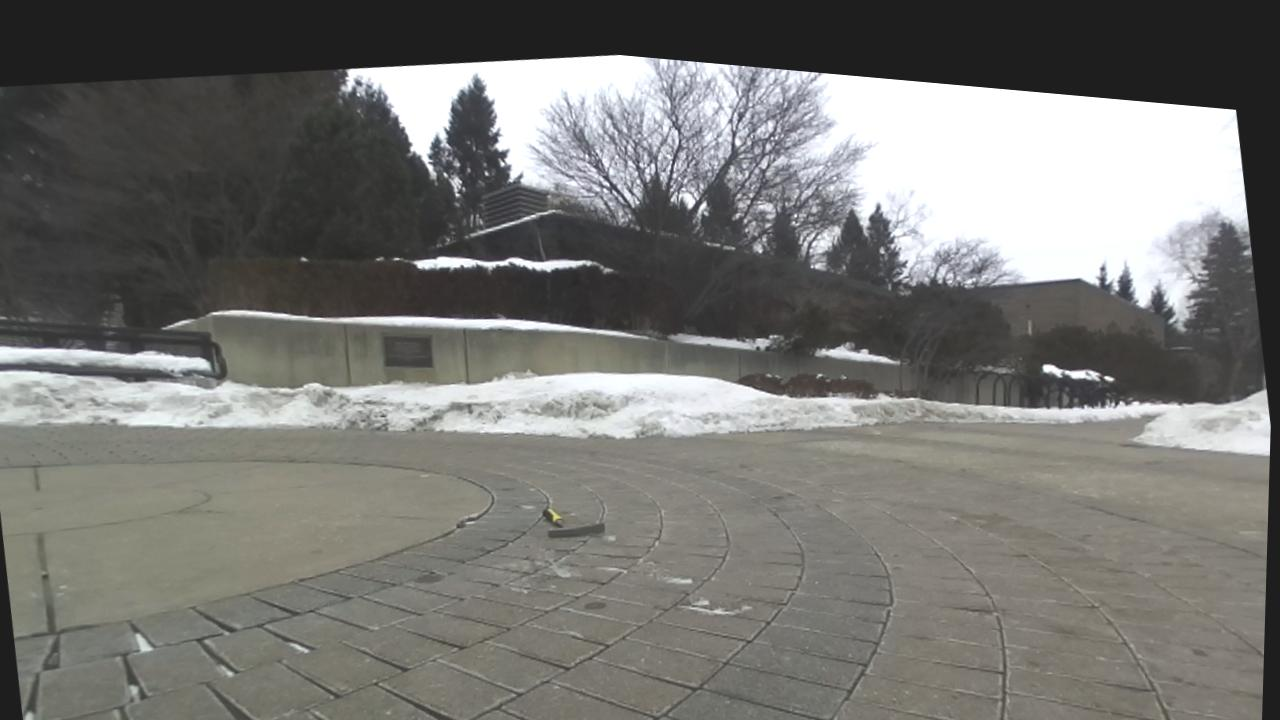pick: (542, 508, 603, 537)
